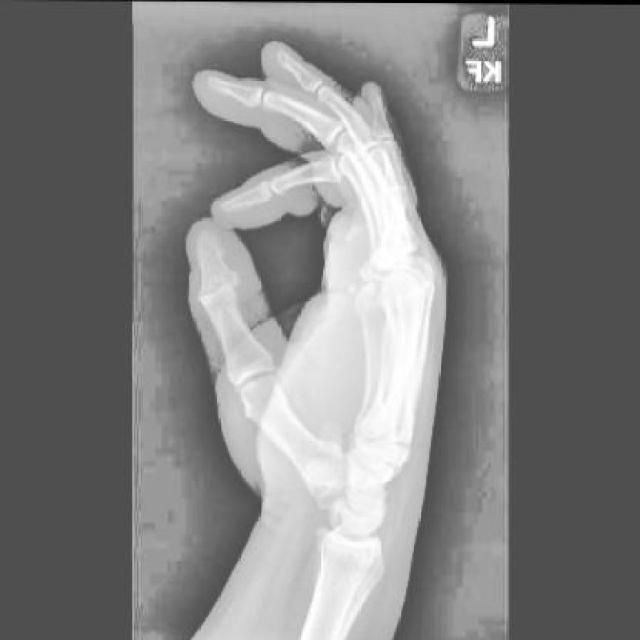Fracture: (363, 446, 416, 476)
